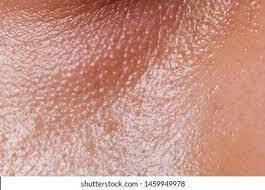Oily-Skin: (25, 26, 198, 155)
